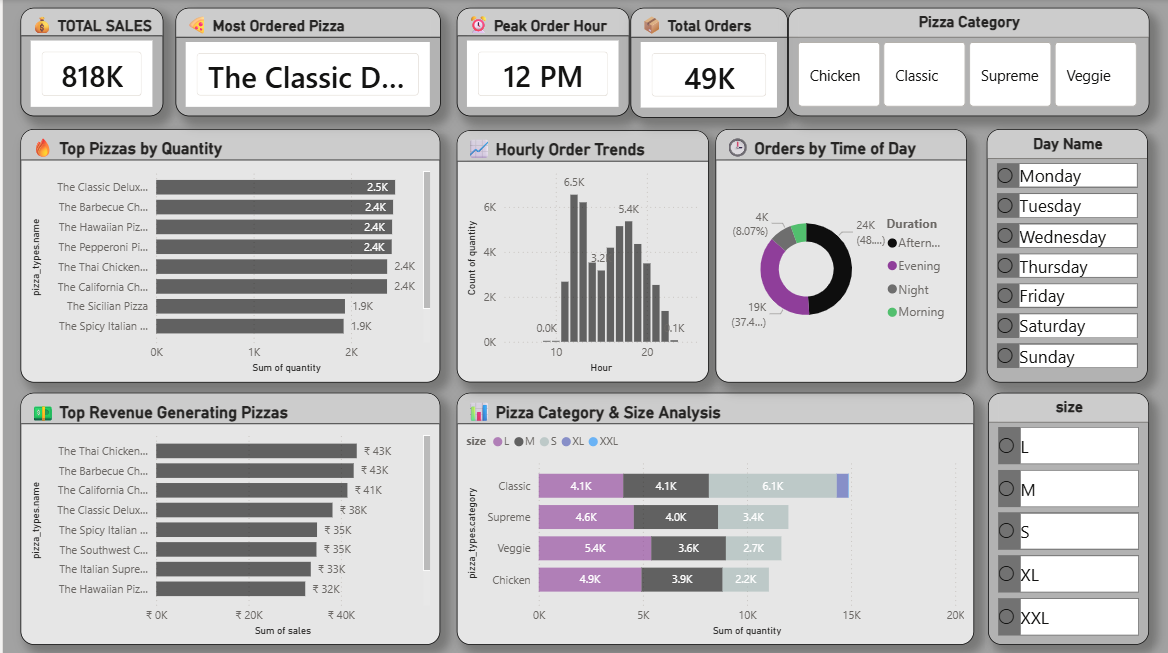

Layout of this report page (visuals, bound fields, positions):
{"tool":"powerbi","page":{"name":"Page 1","canvas":[1280,720],"ordinal":0},"visuals":[{"type":"cardVisual","title":"💰 TOTAL SALES","fields":{"Data":["order_details.total_sales"]},"box":[19.2,9.6,156.4,119.4],"z":0},{"type":"barChart","title":"🔥 Top Pizzas by Quantity","fields":{"Category":["order_details.pizza_types.name"],"Y":["Sum(order_details.quantity)"]},"box":[19.2,142.7,461.1,278.6],"z":1000},{"type":"clusteredBarChart","title":"💵 Top Revenue Generating Pizzas","fields":{"Category":["order_details.pizza_types.name"],"Y":["Sum(order_details.sales)"]},"box":[19.2,432.2,461.1,277.2],"z":2000},{"type":"barChart","title":"📊 Pizza Category & Size Analysis","fields":{"Series":["pizzas.size"],"Category":["order_details.pizza_types.category"],"Y":["Sum(order_details.quantity)"]},"box":[498.1,432.2,568.1,277.2],"z":3000},{"type":"clusteredColumnChart","title":"📈 Hourly Order Trends","fields":{"Y":["CountNonNull(order_details.quantity)"],"Category":["orders.Hour"]},"box":[498.1,144.1,277.2,277.2],"z":4000},{"type":"cardVisual","title":"🍕 Most Ordered Pizza","fields":{"Data":["order_details.Top Selling Pizza"]},"box":[189.4,9.6,290.9,119.4],"z":5000},{"type":"cardVisual","title":"⏰ Peak Order Hour","fields":{"Data":["order_details.Peak Order Time"]},"box":[498.1,9.6,189.4,119.4],"z":6000},{"type":"cardVisual","title":"📦 Total Orders","fields":{"Data":["order_details.Total Orders"]},"box":[688.9,9.6,172.9,120.8],"z":7000},{"type":"donutChart","title":"🕒 Orders by Time of Day","fields":{"Category":["orders.Duration"],"Y":["Sum(order_details.quantity)"]},"box":[782.2,142.7,275.8,278.6],"z":8000},{"type":"advancedSlicerVisual","title":"Pizza Category","fields":{"Values":["order_details.pizza_types.category"]},"box":[861.8,9.6,396.6,119.4],"z":9000},{"type":"listSlicer","fields":{"Values":["orders.Day Name"]},"box":[1079.9,142.7,177,278.6],"z":10000},{"type":"listSlicer","fields":{"Values":["pizzas.size"]},"box":[1081,432,177,277],"z":11000}]}

Visuals, with their boxes in screenshot pixels (x1, y1, x2, y2), scaled from the page's 1280x720 canvas onto the 1168x653 screenshot:
"💰 TOTAL SALES" cardVisual: <box>18,9,160,117</box>
"🔥 Top Pizzas by Quantity" barChart: <box>18,129,438,382</box>
"💵 Top Revenue Generating Pizzas" clusteredBarChart: <box>18,392,438,643</box>
"📊 Pizza Category & Size Analysis" barChart: <box>455,392,973,643</box>
"📈 Hourly Order Trends" clusteredColumnChart: <box>455,131,707,382</box>
"🍕 Most Ordered Pizza" cardVisual: <box>173,9,438,117</box>
"⏰ Peak Order Hour" cardVisual: <box>455,9,627,117</box>
"📦 Total Orders" cardVisual: <box>629,9,786,118</box>
"🕒 Orders by Time of Day" donutChart: <box>714,129,965,382</box>
"Pizza Category" advancedSlicerVisual: <box>786,9,1148,117</box>
listSlicer - orders.Day Name: <box>985,129,1147,382</box>
listSlicer - pizzas.size: <box>986,392,1148,643</box>
